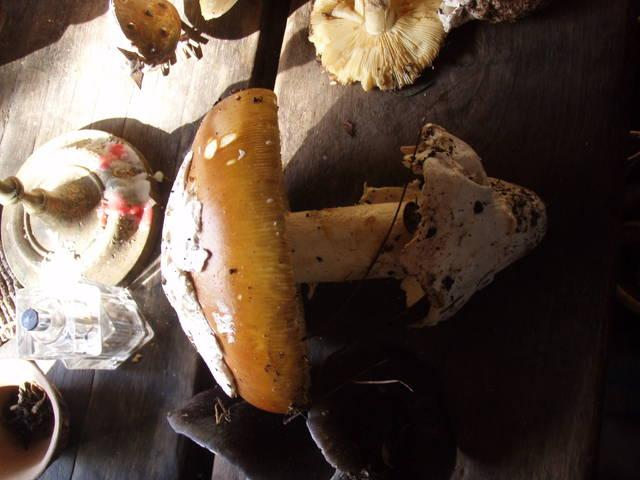edible_mushroom: (158, 86, 548, 417), (159, 86, 313, 416), (0, 127, 162, 369)
